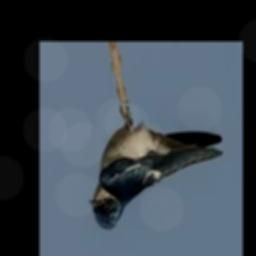Swallow: (89, 112, 223, 230)
